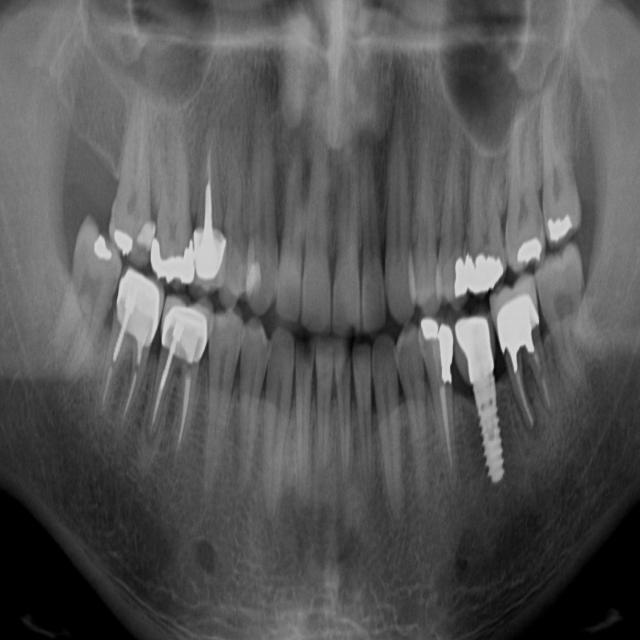dolgu: (75, 206, 116, 285), (422, 304, 462, 384), (98, 206, 144, 267), (505, 230, 563, 276), (546, 198, 581, 255), (452, 239, 479, 302), (477, 243, 507, 291)
implant: (449, 320, 519, 499)
kanal-tedavisi: (152, 318, 197, 464), (100, 294, 148, 424), (503, 352, 554, 444), (192, 120, 226, 244), (432, 383, 464, 489)
kaplama: (119, 258, 163, 350), (162, 297, 205, 369), (150, 230, 198, 291), (493, 296, 539, 359), (192, 222, 230, 290)
